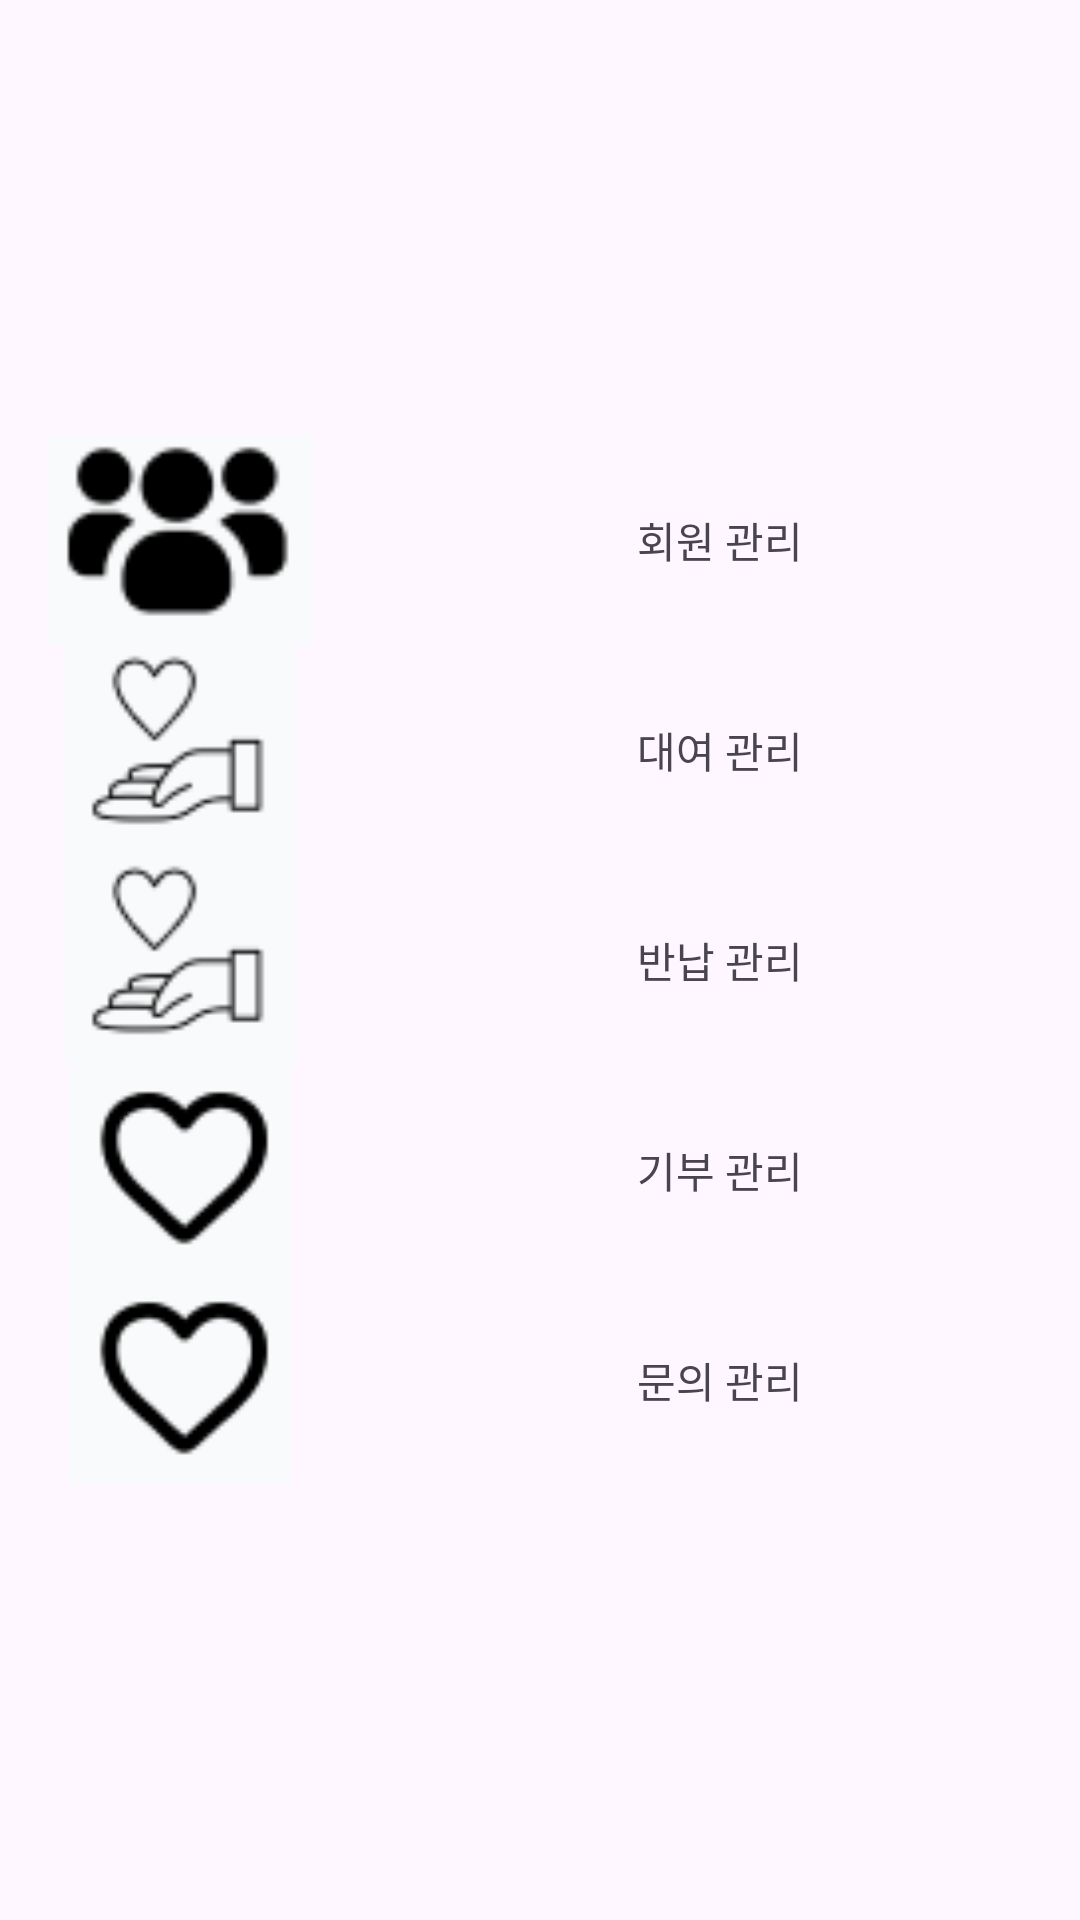

Locate icon controls on the screen. Image size 1080 x 1920, boxes as [left=x1, top=y1, right=x2, bottom=y2].
giving: [left=91, top=656, right=264, bottom=825], [left=91, top=866, right=264, bottom=1035]
